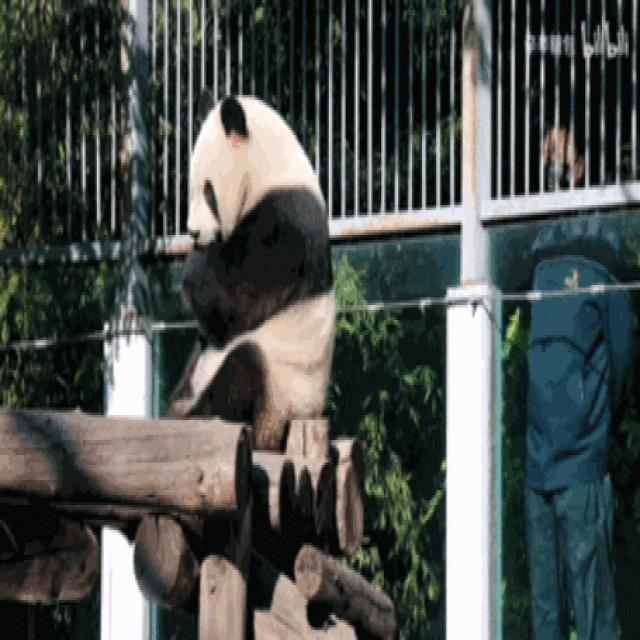panda: (158, 92, 346, 450)
